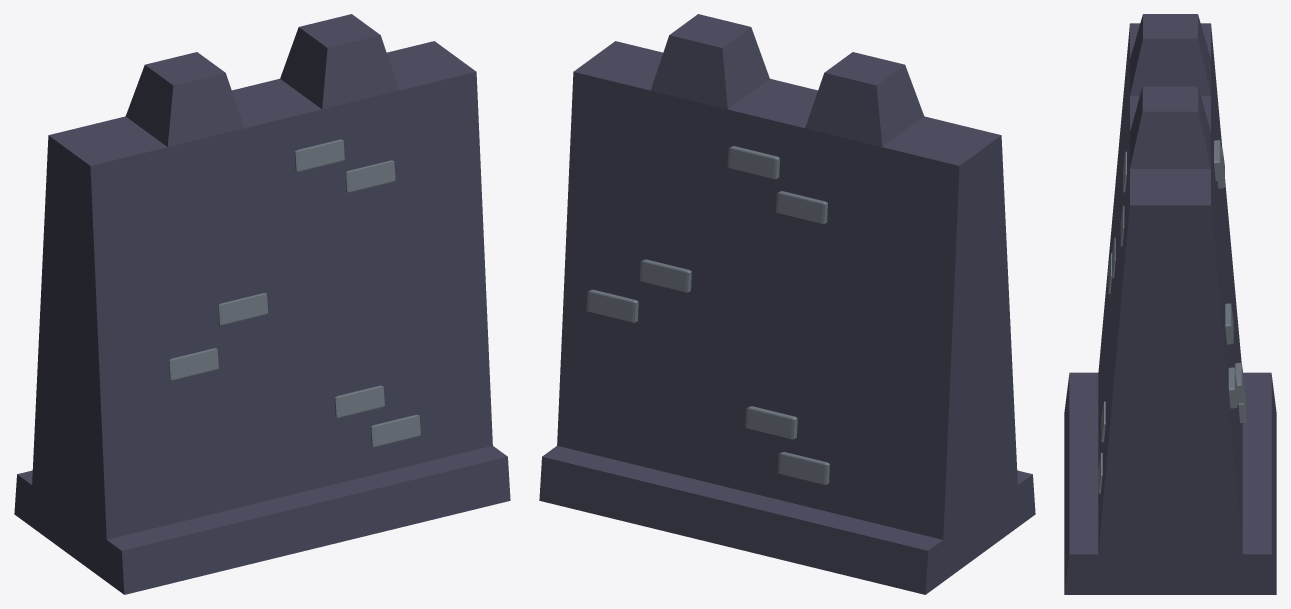
File: stone_wall.fbx
3 renders of one model, left to right at view 1: azimuth 30°, elevation 25°; view 2: azimuth 150°, elevation 25°; view 3: azimuth 270°, elevation 25°, orthographic. The views are drawn at different scales.
Visible parts, largest first — view 1: Cube, Cube.001, Cube.004, Cube.006, Cube.005, Cube.003, Cube.002; view 2: Cube, Cube.012, Cube.007, Cube.008, Cube.010, Cube.011, Cube.009; view 3: Cube, Cube.010, Cube.007, Cube.008, Cube.012.
Boxes of the visible parts, bbox=[...] form: Cube: bbox=[14, 14, 510, 594]; Cube.001: bbox=[334, 385, 384, 417]; Cube.004: bbox=[370, 414, 420, 447]; Cube.006: bbox=[294, 139, 344, 171]; Cube.005: bbox=[218, 293, 268, 325]; Cube.003: bbox=[169, 348, 218, 380]; Cube.002: bbox=[345, 160, 395, 192]; Cube: bbox=[539, 14, 1035, 594]; Cube.012: bbox=[745, 406, 797, 439]; Cube.007: bbox=[727, 146, 779, 179]; Cube.008: bbox=[639, 259, 691, 292]; Cube.010: bbox=[586, 289, 638, 323]; Cube.011: bbox=[776, 191, 827, 224]; Cube.009: bbox=[778, 452, 829, 485]; Cube: bbox=[1064, 14, 1276, 594]; Cube.010: bbox=[1228, 367, 1237, 408]; Cube.007: bbox=[1214, 140, 1222, 181]; Cube.008: bbox=[1225, 303, 1233, 344]; Cube.012: bbox=[1235, 362, 1244, 403].
Size of the model in its own units: 74.5 by 84.38 by 36.78.
